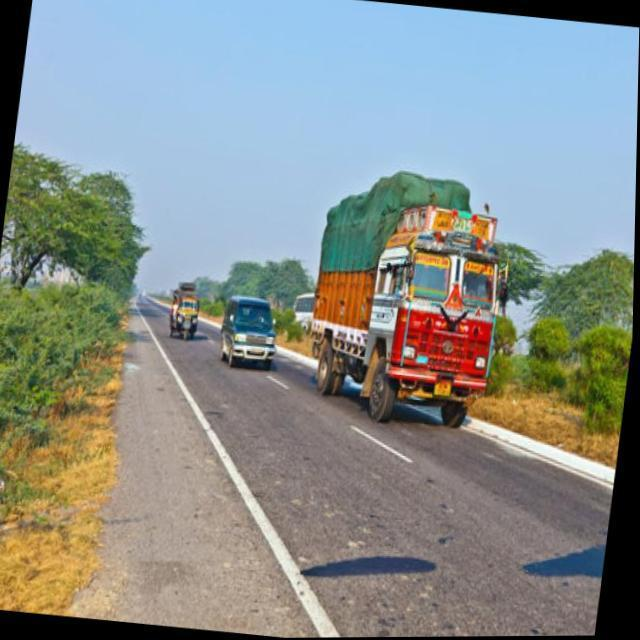truck: (297, 169, 527, 437)
